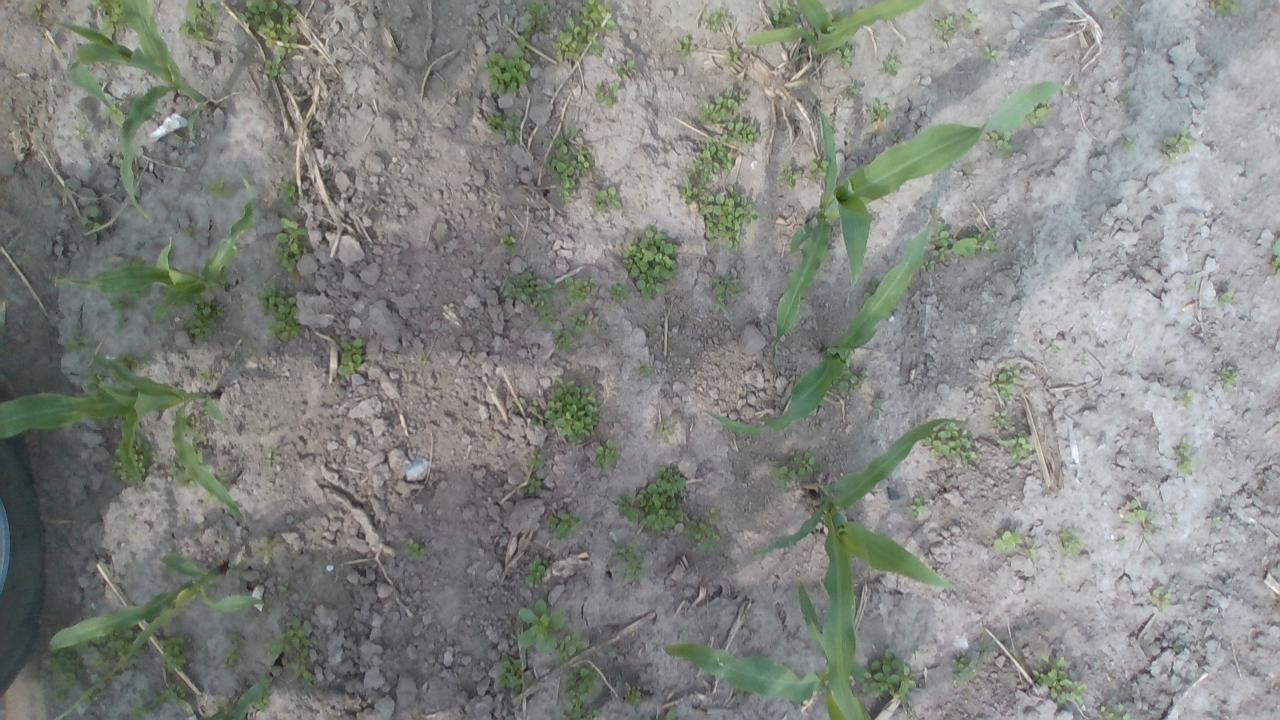Maize: (768, 83, 1066, 345), (753, 418, 952, 720), (702, 220, 933, 436), (0, 355, 248, 524), (44, 550, 263, 720), (56, 0, 216, 220), (54, 174, 254, 328), (659, 579, 872, 720), (746, 0, 930, 54), (186, 672, 276, 720)
Weeds: (616, 463, 688, 538), (516, 598, 590, 664), (552, 0, 618, 64), (624, 230, 682, 300), (701, 182, 758, 252), (546, 375, 600, 444), (500, 270, 560, 329), (240, 0, 300, 56), (545, 133, 593, 202), (258, 278, 304, 345), (1034, 654, 1090, 706), (94, 622, 144, 680), (861, 650, 916, 702), (269, 619, 313, 684), (919, 417, 977, 466), (478, 46, 530, 96), (560, 663, 604, 720), (272, 216, 312, 275), (696, 86, 748, 130), (45, 643, 84, 701), (688, 134, 733, 183), (184, 298, 226, 343), (683, 507, 723, 554), (772, 451, 819, 489), (178, 0, 220, 42), (110, 442, 153, 483), (157, 627, 190, 673), (90, 0, 128, 39), (951, 230, 1000, 259), (610, 542, 644, 580), (518, 0, 546, 46), (496, 654, 526, 696), (562, 272, 598, 307), (338, 338, 368, 378), (990, 365, 1024, 400), (998, 430, 1034, 463), (1162, 126, 1196, 160), (484, 112, 520, 144), (112, 350, 144, 386), (1057, 526, 1090, 560), (1174, 436, 1202, 476), (832, 362, 868, 393), (550, 508, 584, 540), (926, 222, 952, 262), (1122, 498, 1154, 530), (183, 424, 207, 466), (80, 204, 106, 241), (592, 186, 624, 216), (155, 678, 189, 706), (594, 440, 624, 470), (771, 0, 802, 29), (712, 276, 744, 304), (260, 46, 288, 78), (981, 127, 1016, 152), (592, 79, 622, 108), (991, 529, 1024, 555), (728, 120, 759, 146), (950, 654, 976, 684), (1024, 98, 1050, 128), (526, 556, 550, 586), (704, 6, 731, 32), (1094, 702, 1132, 720), (670, 34, 696, 59), (176, 460, 197, 490), (1219, 368, 1244, 393), (806, 156, 829, 183), (776, 165, 803, 188), (278, 179, 298, 210), (1210, 0, 1244, 18), (904, 494, 928, 519), (569, 311, 592, 337), (678, 180, 705, 202), (834, 42, 856, 68), (205, 176, 227, 202), (66, 328, 88, 354), (253, 684, 273, 712), (862, 276, 882, 301), (1150, 586, 1170, 610), (934, 14, 958, 34), (614, 60, 637, 80), (526, 447, 546, 470), (869, 100, 888, 124), (102, 102, 126, 121), (607, 282, 632, 300), (404, 542, 426, 562), (529, 400, 544, 429), (880, 56, 904, 74), (626, 684, 644, 708), (129, 702, 153, 720), (828, 6, 850, 25), (553, 330, 572, 352), (222, 648, 241, 668), (982, 46, 1001, 66), (26, 0, 43, 22), (80, 686, 99, 705), (85, 372, 105, 390), (1271, 233, 1280, 273), (1180, 387, 1198, 407), (1218, 288, 1236, 308), (992, 408, 1011, 426), (524, 476, 544, 493), (128, 286, 152, 300), (961, 8, 980, 25), (72, 122, 90, 139), (655, 422, 675, 437), (112, 298, 133, 312), (1120, 138, 1138, 154), (115, 318, 128, 340), (502, 234, 517, 253), (276, 582, 292, 598), (920, 260, 936, 276), (842, 86, 862, 98), (262, 548, 276, 564), (872, 400, 886, 416), (1027, 543, 1038, 560), (1185, 278, 1198, 290), (640, 364, 652, 377), (664, 709, 678, 720), (264, 452, 274, 467), (200, 368, 210, 382), (184, 227, 193, 236)
